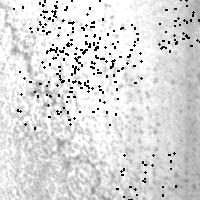pitted_surface: (3, 6, 155, 195), (82, 22, 140, 82), (39, 39, 99, 95), (55, 18, 109, 78), (39, 0, 99, 53), (17, 71, 73, 127), (61, 71, 117, 124), (115, 152, 175, 200), (158, 0, 200, 50), (13, 0, 71, 32)
